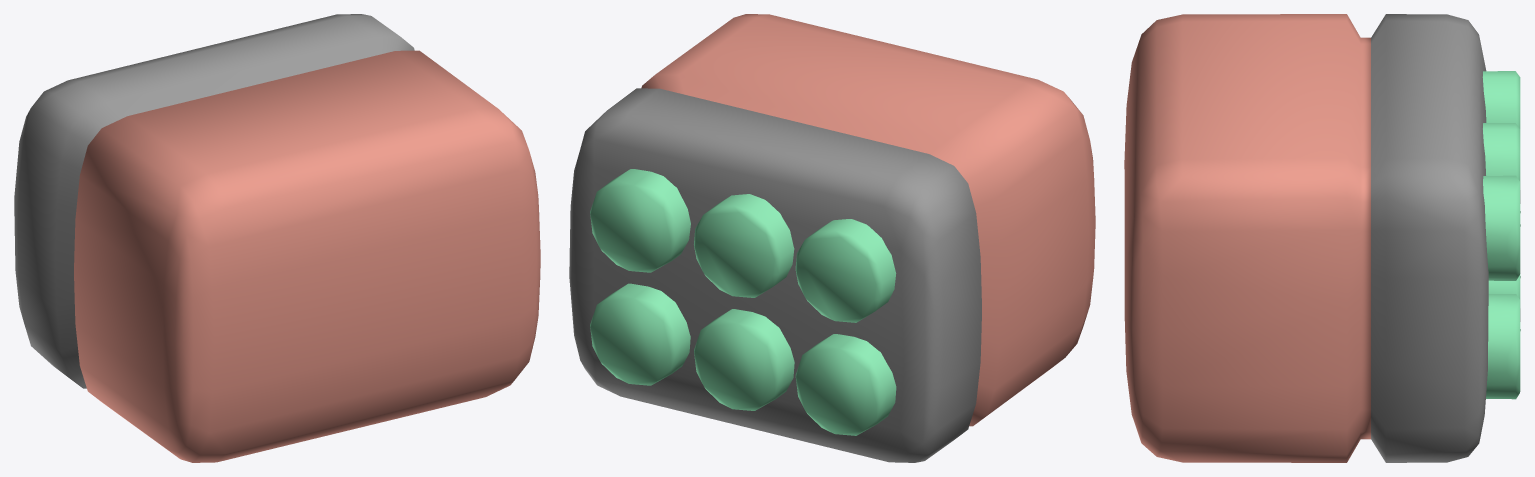
Rendered from rocketLauncher.fbx.
The picture shows the model from 3 angles, left to right: view 1: azimuth 30°, elevation 25°; view 2: azimuth 150°, elevation 25°; view 3: azimuth 270°, elevation 25°; orthographic projection. The views are drawn at different scales.
Visible parts, largest first — view 1: rocket_level1; view 2: rocket_level1; view 3: rocket_level1.
Part boxes in pixels (x1,y1,x2,y2): rocket_level1: [14, 14, 540, 462]; rocket_level1: [569, 14, 1095, 462]; rocket_level1: [1124, 14, 1520, 462].
Bounding box in the file's own units: 36.19 × 26.59 × 31.95.
